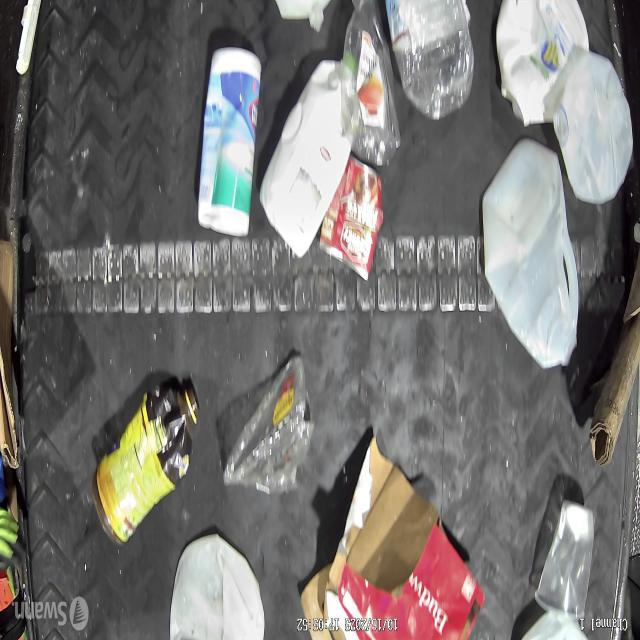can: (323, 168, 389, 286)
milk_jug: (482, 149, 582, 379), (259, 68, 363, 256), (554, 56, 636, 207), (173, 526, 263, 640)
plastic_bottle: (227, 371, 314, 495), (386, 0, 476, 119), (341, 0, 398, 175), (538, 498, 592, 628)
